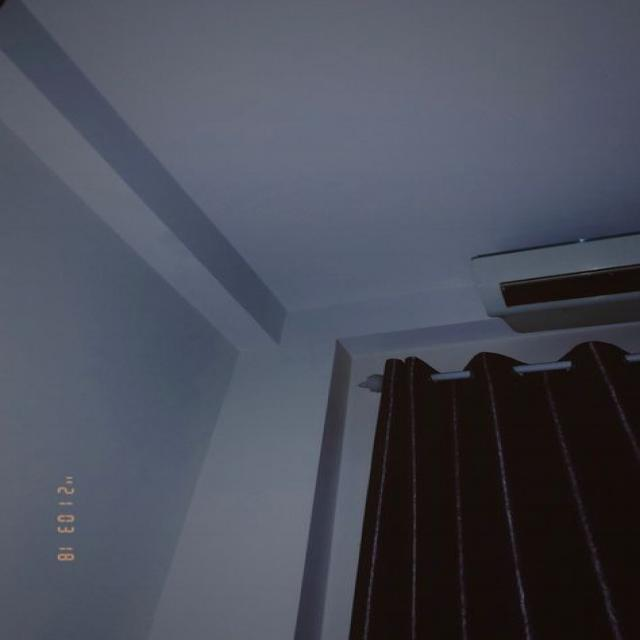AC: (470, 229, 639, 317)
